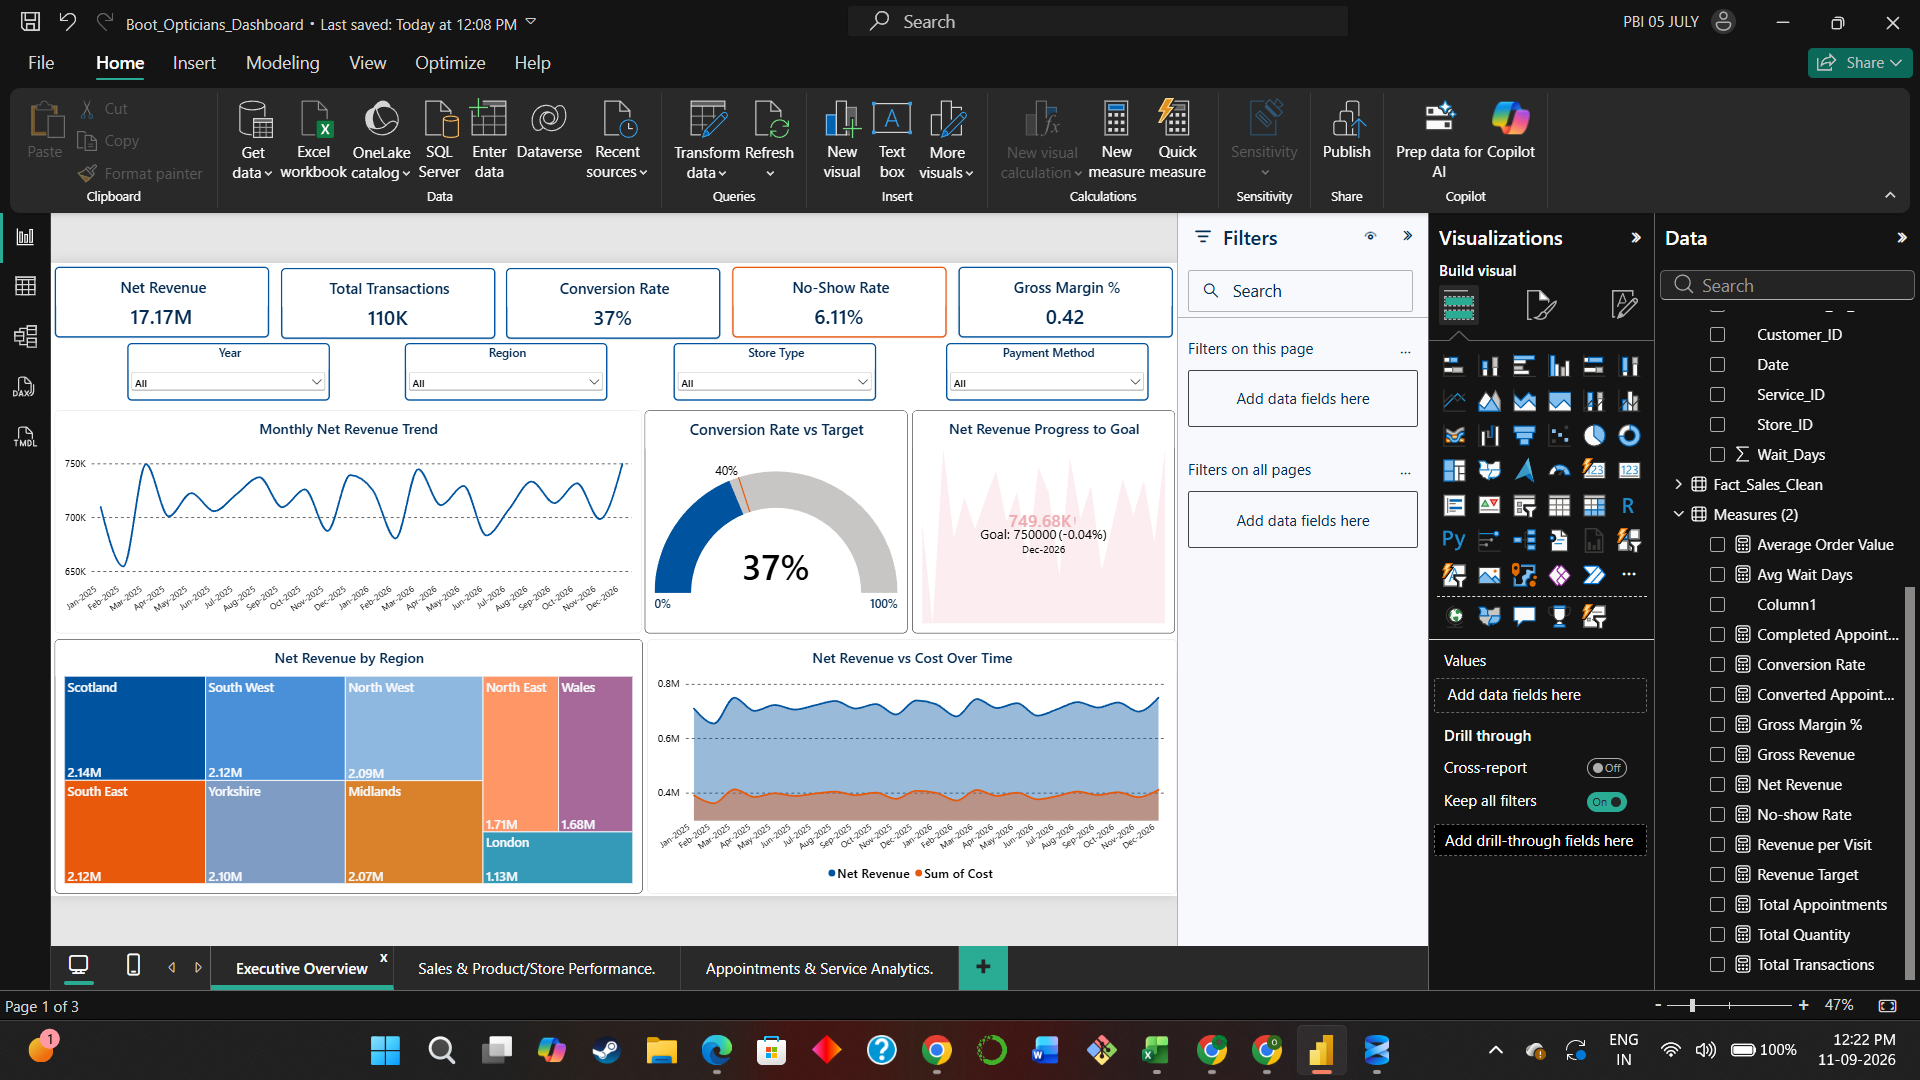

The dashboard page shown, as its layout file describes it:
{"tool":"powerbi","page":{"name":"Executive Overview","canvas":[1920,1080],"ordinal":0},"visuals":[{"type":"card","title":"Net Revenue ","fields":{"Values":["Measures (2).Net Revenue"]},"box":[6.4,6.4,365.4,121.1],"z":0},{"type":"card","title":"Total Transactions","fields":{"Values":["Measures (2).Total Transactions"]},"box":[391.4,8.5,365.4,121.1],"z":1000},{"type":"card","title":"Conversion Rate","fields":{"Values":["Measures (2).Conversion Rate"]},"box":[776.5,8.5,365.4,121.1],"z":2000},{"type":"card","title":"No-Show Rate","fields":{"Values":["Measures (2).No-show Rate"]},"box":[1161.5,6.4,365.4,121.1],"z":3000},{"type":"lineChart","title":"Monthly Net Revenue Trend","fields":{"Category":["Dim_Date.YearMonth"],"Y":["Measures (2).Net Revenue"]},"box":[6.4,252.5,1000.6,380.3],"z":4000},{"type":"card","title":"Gross Margin %","fields":{"Values":["Measures (2).Gross Margin %"]},"box":[1546.5,6.4,365.4,121.1],"z":5000},{"type":"treemap","title":"Net Revenue by Region","fields":{"Group":["Dim_Store.Region"],"Values":["Measures (2).Net Revenue"]},"box":[6.4,641.6,1002.7,433.4],"z":6000},{"type":"gauge","title":"Conversion Rate vs Target","fields":{"Y":["Measures (2).Conversion Rate"]},"box":[1013.3,252.5,448.2,380.3],"z":7000},{"type":"slicer","title":"Year","fields":{"Values":["Dim_Date.Year"]},"box":[130,136.4,345.3,98],"z":8000},{"type":"kpi","title":"Net Revenue Progress to Goal","fields":{"Goal":["Measures (2).Revenue Target"],"Indicator":["Measures (2).Net Revenue"],"TrendLine":["Dim_Date.YearMonth"]},"box":[1467.9,252.5,448.2,380.3],"z":9000},{"type":"slicer","title":"Region","fields":{"Values":["Dim_Store.Region"]},"box":[603.2,136.4,345.3,98],"z":10000},{"type":"slicer","title":"Payment Method ","fields":{"Values":["Fact_Sales_Clean.Payment_Method"]},"box":[1526.1,136.4,345.3,98],"z":11000},{"type":"areaChart","title":"Net Revenue vs Cost Over Time","fields":{"Category":["Dim_Date.YearMonth"],"Y":["Measures (2).Net Revenue","Sum(Fact_Sales_Clean.Cost)"]},"box":[1017.6,641.6,902.9,433.4],"z":12000},{"type":"slicer","title":"Store Type","fields":{"Values":["Dim_Store.Store_Type"]},"box":[1060.7,136.4,345.3,98],"z":13000}]}

Visuals, with their boxes on the page's 1920x1080 design canvas (x1, y1, x2, y2). These are canvas units, not pixel positions in the 1920x1080 screenshot, which may show the page scaled, cropped or inside an application window:
"Net Revenue " card: region(6, 6, 372, 128)
"Total Transactions" card: region(391, 8, 757, 130)
"Conversion Rate" card: region(776, 8, 1142, 130)
"No-Show Rate" card: region(1162, 6, 1527, 128)
"Monthly Net Revenue Trend" lineChart: region(6, 252, 1007, 633)
"Gross Margin %" card: region(1546, 6, 1912, 128)
"Net Revenue by Region" treemap: region(6, 642, 1009, 1075)
"Conversion Rate vs Target" gauge: region(1013, 252, 1462, 633)
"Year" slicer: region(130, 136, 475, 234)
"Net Revenue Progress to Goal" kpi: region(1468, 252, 1916, 633)
"Region" slicer: region(603, 136, 948, 234)
"Payment Method " slicer: region(1526, 136, 1871, 234)
"Net Revenue vs Cost Over Time" areaChart: region(1018, 642, 1920, 1075)
"Store Type" slicer: region(1061, 136, 1406, 234)
